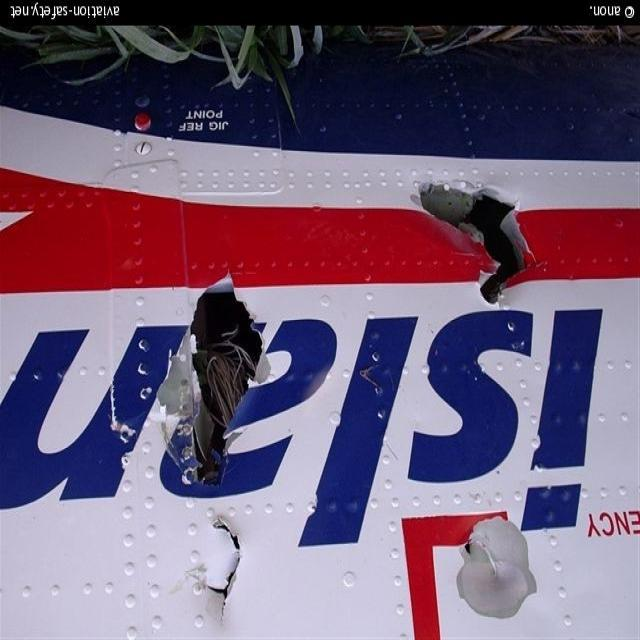crack: (154, 265, 275, 497), (415, 175, 547, 310), (203, 517, 247, 630), (460, 535, 502, 579)
